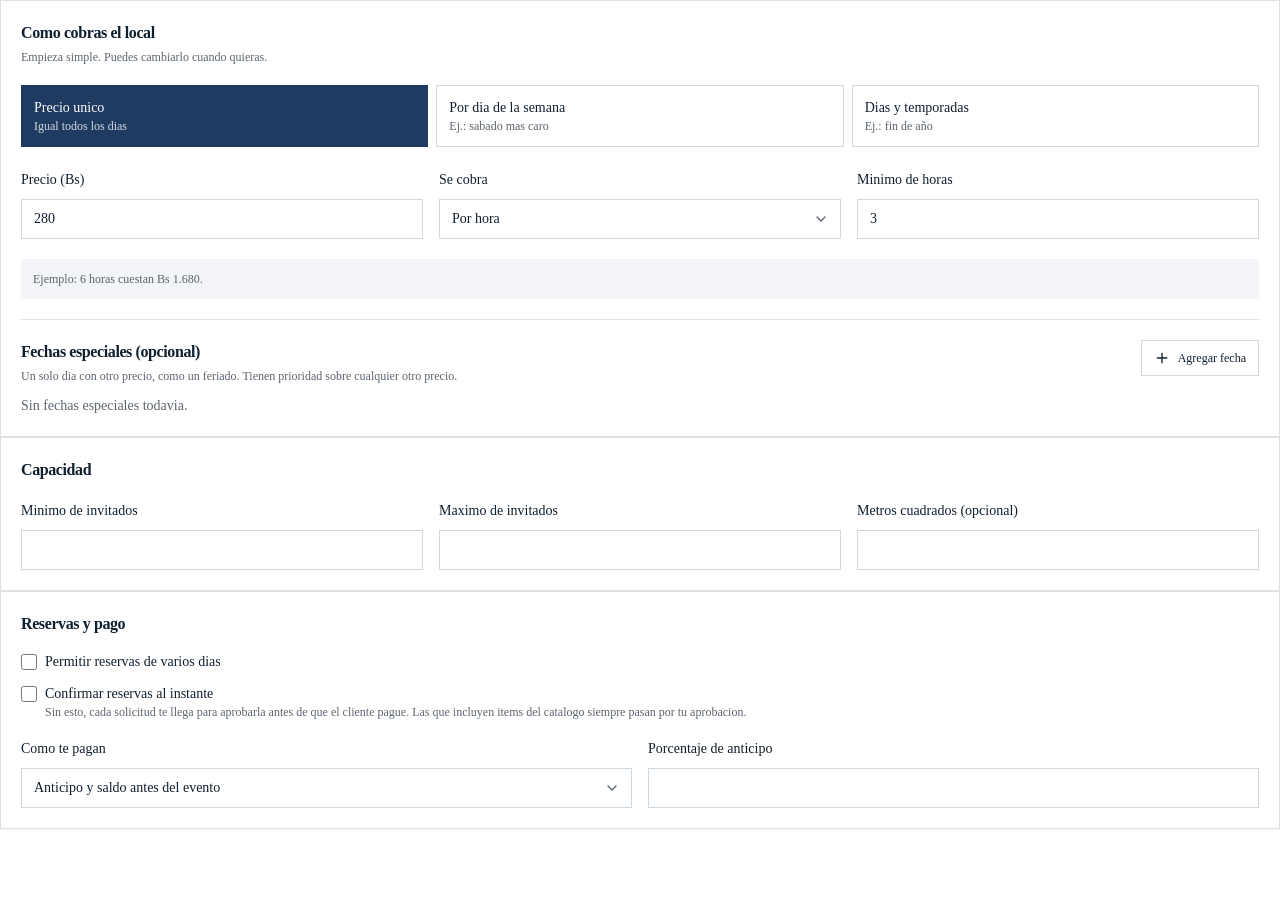
Test: VenuePricingSection › minimo de horas › solo se pide si se cobra por hora
Check: the number field labelled "Minimo de horas" is shown, box left=857, top=199, right=1259, bottom=239
Select "Por dia" in the dropdown labelled "Se cobra" at (640, 219), box left=439, top=199, right=841, bottom=239
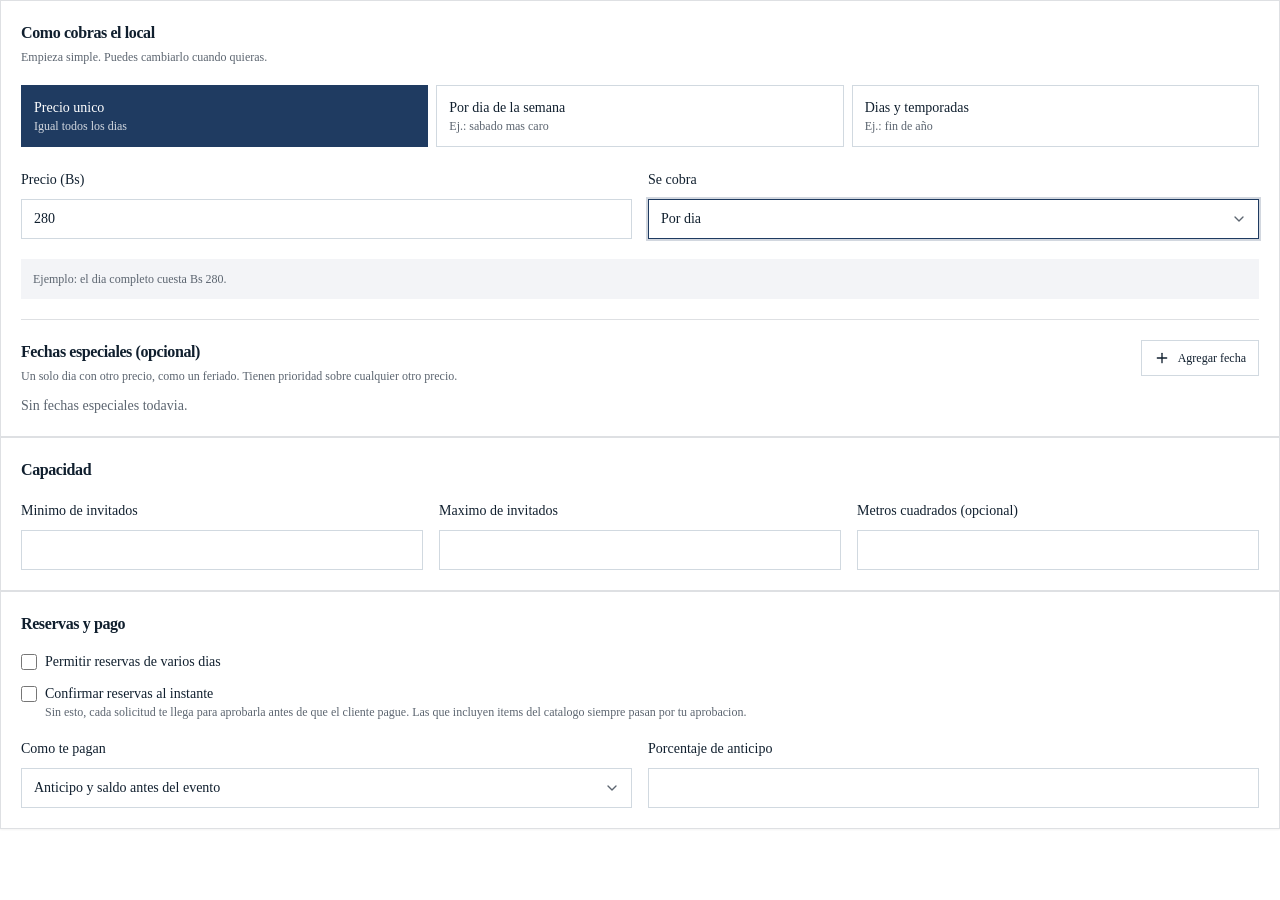
Check: the label labelled "Minimo de horas" is gone
